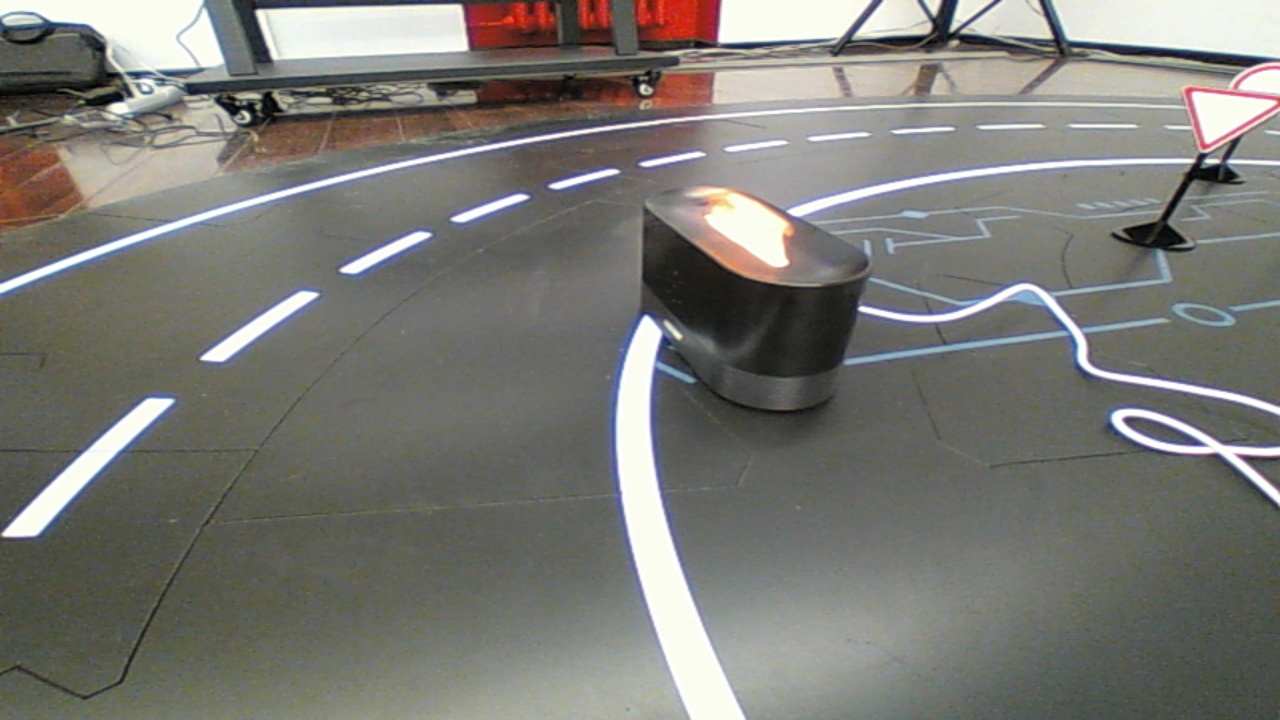Movement prohibition: (617, 169, 886, 427)
